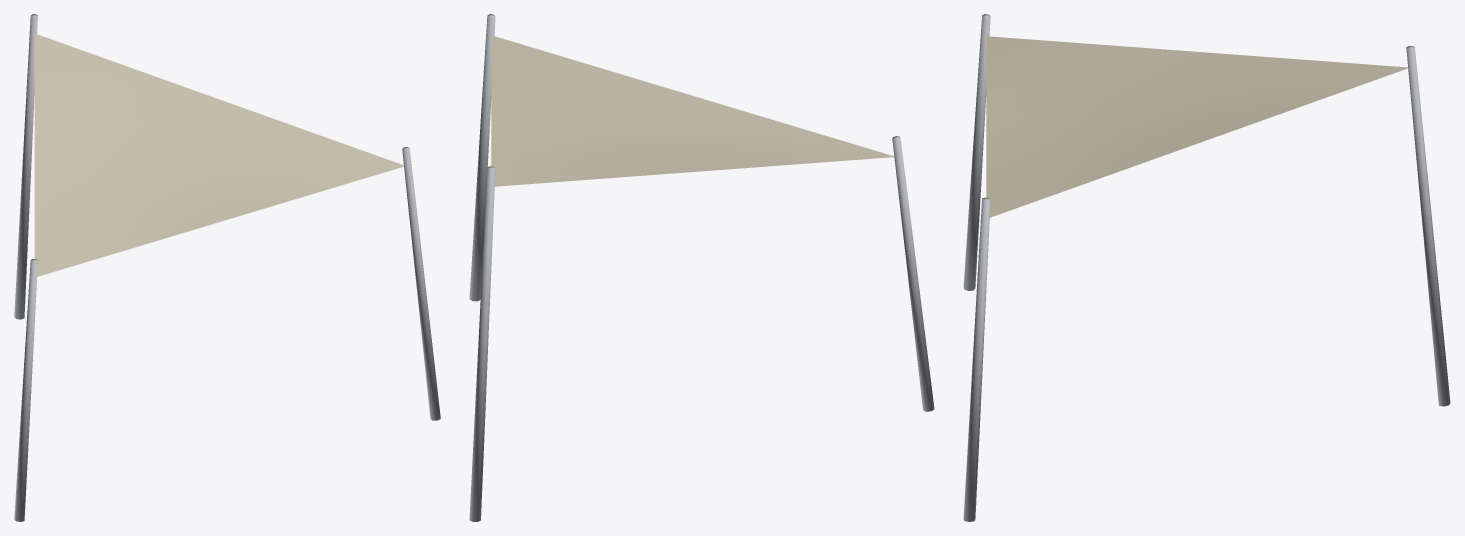
Rendered from city_shade_sail.glb.
3 renders of one model, left to right at view 1: azimuth 30°, elevation 25°; view 2: azimuth 150°, elevation 25°; view 3: azimuth 270°, elevation 25°, orthographic. The views are drawn at different scales.
Visible parts, largest first — view 1: CityShadeSail_Sail, CityShadeSail_Mast0, CityShadeSail_Mast2, CityShadeSail_Mast1; view 2: CityShadeSail_Sail, CityShadeSail_Mast0, CityShadeSail_Mast1, CityShadeSail_Mast2; view 3: CityShadeSail_Sail, CityShadeSail_Mast0, CityShadeSail_Mast2, CityShadeSail_Mast1.
Boxes of the visible parts, x1=… form: CityShadeSail_Sail: x1=34, y1=34, x2=404, y2=276; CityShadeSail_Mast0: x1=14, y1=14, x2=37, y2=319; CityShadeSail_Mast2: x1=402, y1=147, x2=440, y2=420; CityShadeSail_Mast1: x1=14, y1=259, x2=37, y2=521; CityShadeSail_Sail: x1=491, y1=36, x2=894, y2=186; CityShadeSail_Mast0: x1=469, y1=166, x2=495, y2=521; CityShadeSail_Mast1: x1=892, y1=136, x2=934, y2=411; CityShadeSail_Mast2: x1=469, y1=14, x2=495, y2=301; CityShadeSail_Sail: x1=986, y1=36, x2=1407, y2=217; CityShadeSail_Mast0: x1=1406, y1=46, x2=1450, y2=406; CityShadeSail_Mast2: x1=963, y1=197, x2=990, y2=521; CityShadeSail_Mast1: x1=963, y1=14, x2=990, y2=290.
Size of the model in its own units: 6.34 by 4.46 by 5.51.
